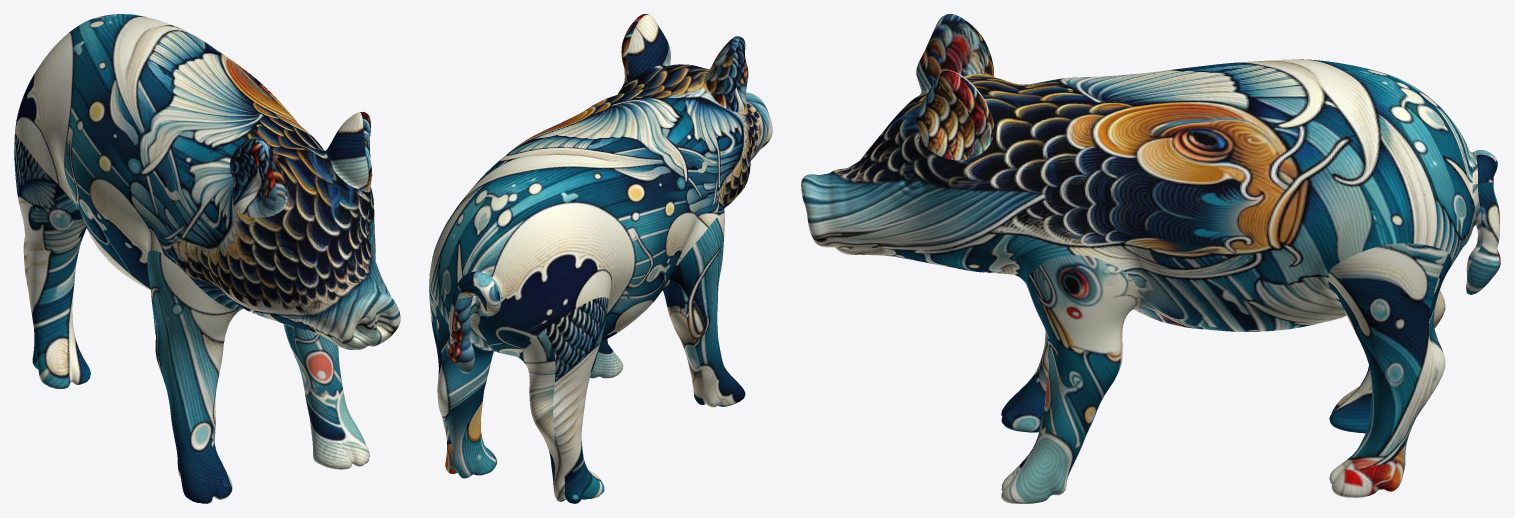
Rendered from skyPig.gltf.
3 views of the same model, side by side, from view 1: azimuth 30°, elevation 25°; view 2: azimuth 150°, elevation 25°; view 3: azimuth 270°, elevation 25° (orthographic). The views are drawn at different scales.
Parts seen in each view (by area): view 1: 18412_Pig_v1; view 2: 18412_Pig_v1; view 3: 18412_Pig_v1.
Boxes of the visible parts, left/top/right/bottom form: 18412_Pig_v1: left=14, top=14, right=400, bottom=503; 18412_Pig_v1: left=429, top=14, right=772, bottom=503; 18412_Pig_v1: left=801, top=14, right=1500, bottom=503.
Size of the model in its own units: 2.41 by 4.57 by 6.95.
Materials: 1 (1 with a texture image).
